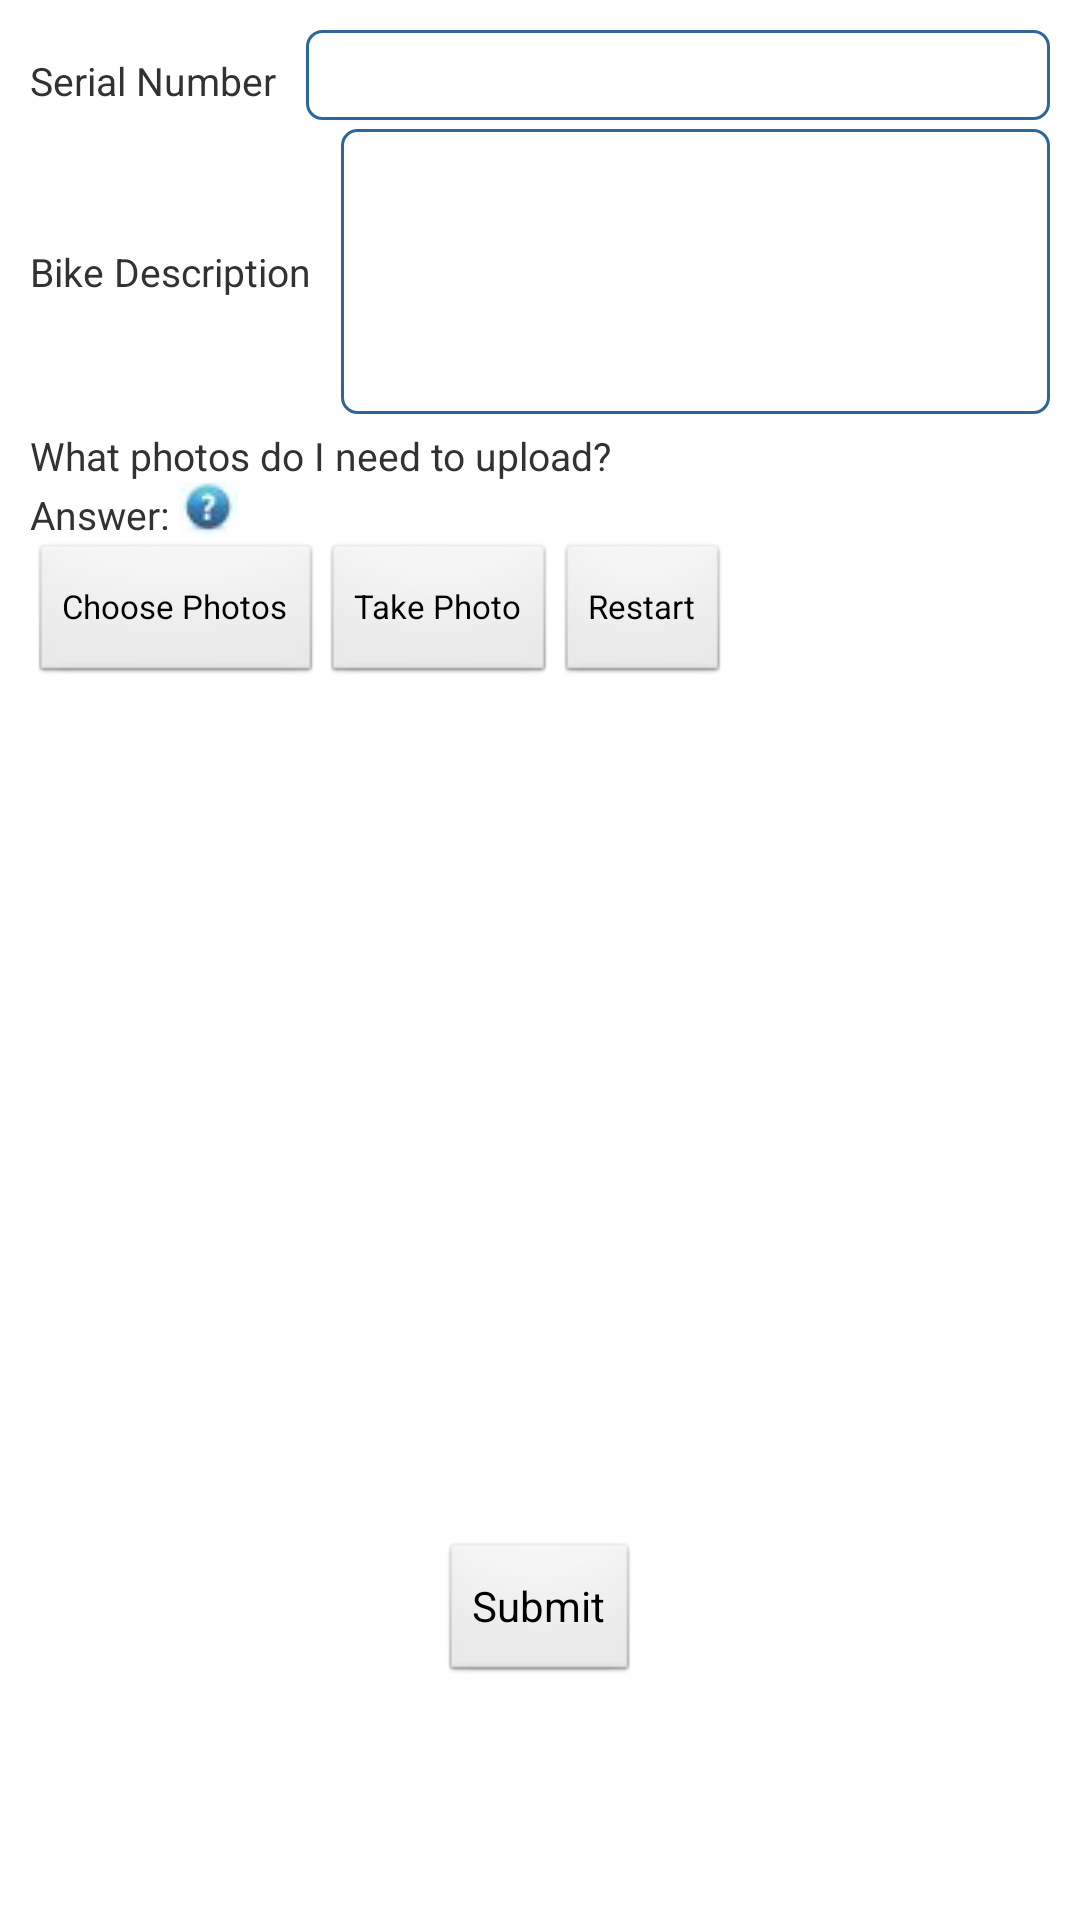

Screen size 1080px×1920px. Icon name, then its box in pixels as (x1, y1, x2, y2):
rsz 1help: (183, 483, 233, 532)
